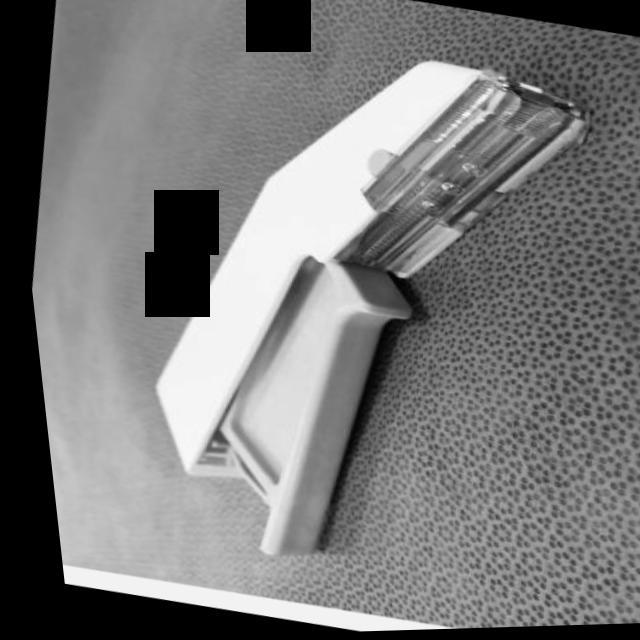Skin Stapler: (81, 13, 640, 618)
